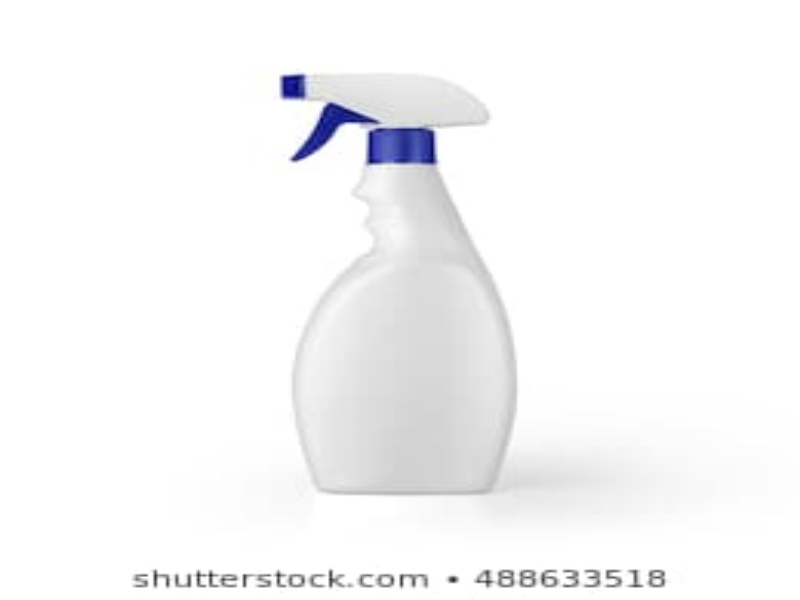detergent-bottle: (273, 66, 525, 498)
